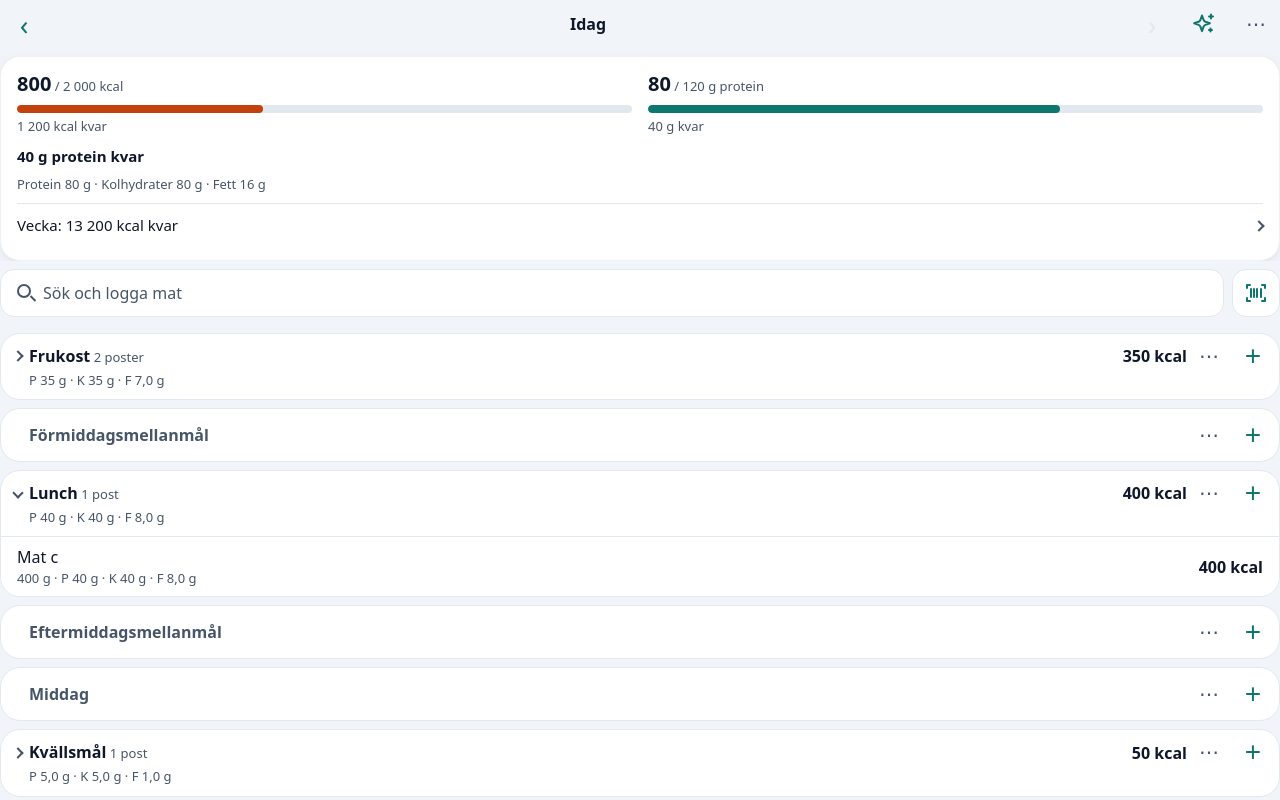
Test: Mat → Dag › meny, favoriter och analys › analyserar dagen med nyckeltal
Click the button named "Fler val för dagen": (1256, 24) [1232, 0, 1279, 48]
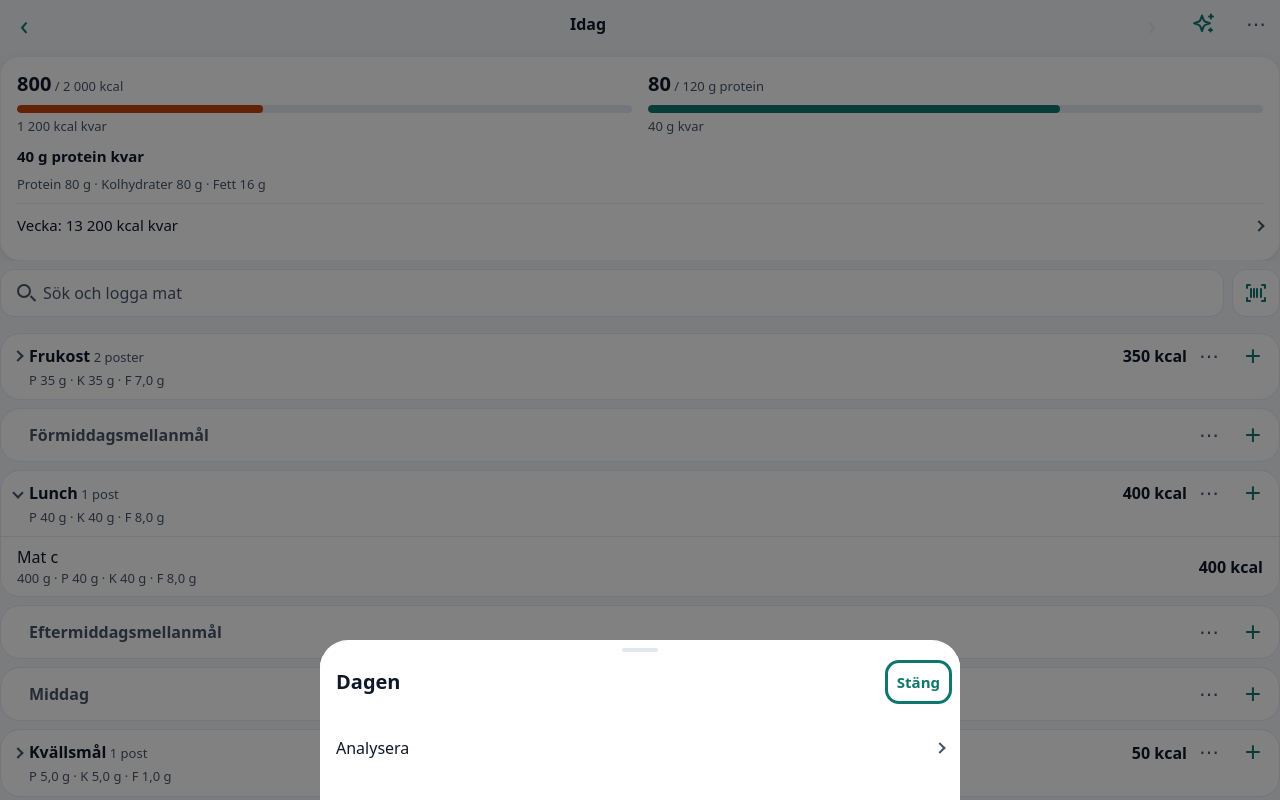
Click the button "Analysera": (373, 748) [320, 720, 960, 776]
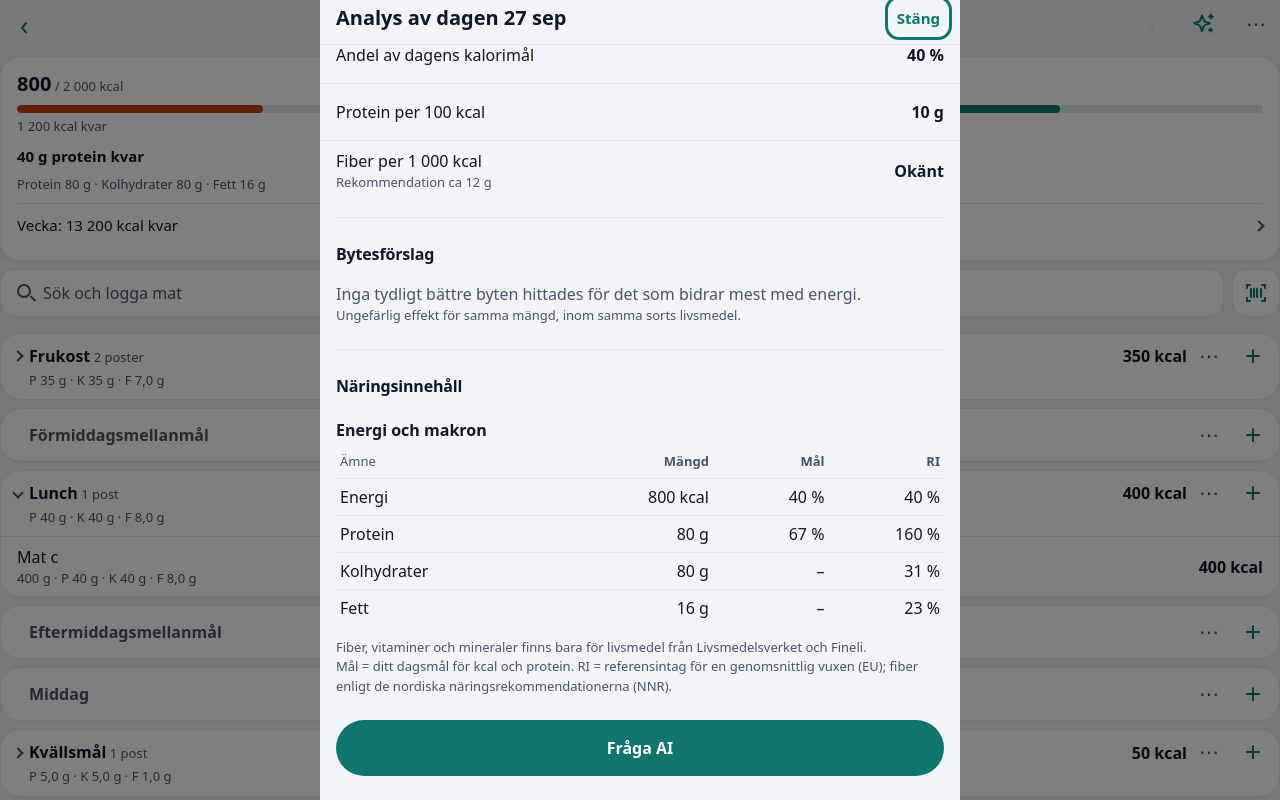
Expected: the button "Fråga AI" is shown, [336, 720, 944, 776]
